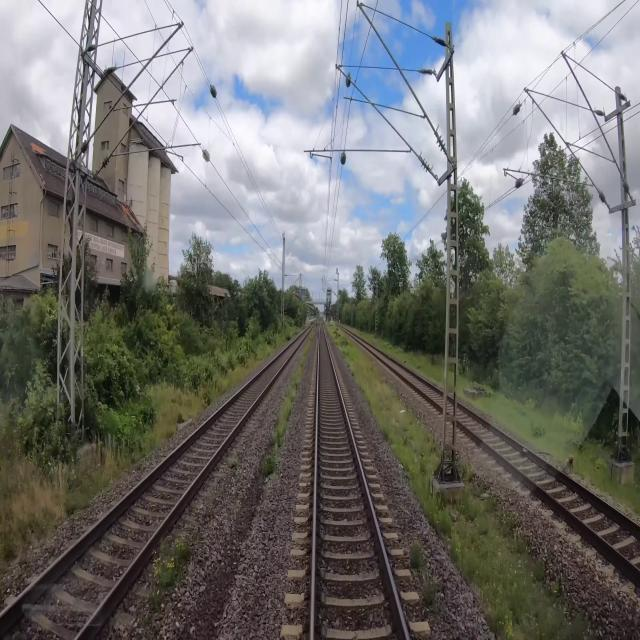Plant: (324, 321, 601, 639), (256, 324, 319, 480), (138, 535, 192, 633), (419, 569, 444, 620), (408, 536, 425, 575), (230, 457, 240, 471)
